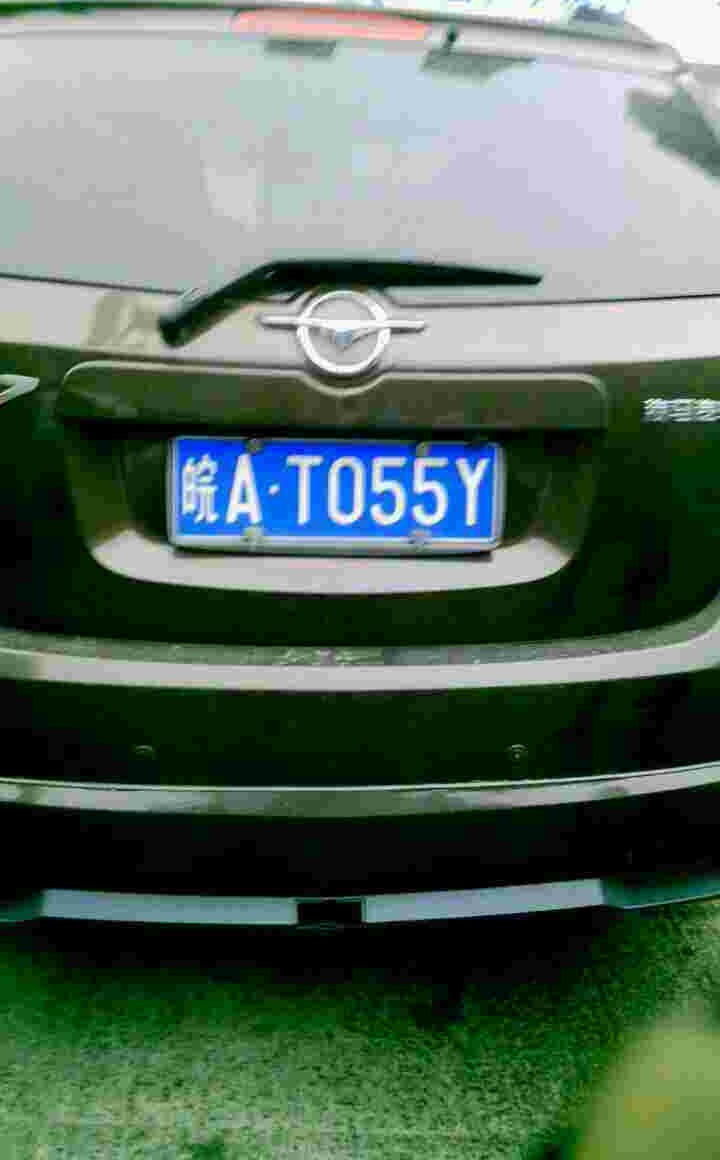license_plate: (189, 443, 513, 527)
